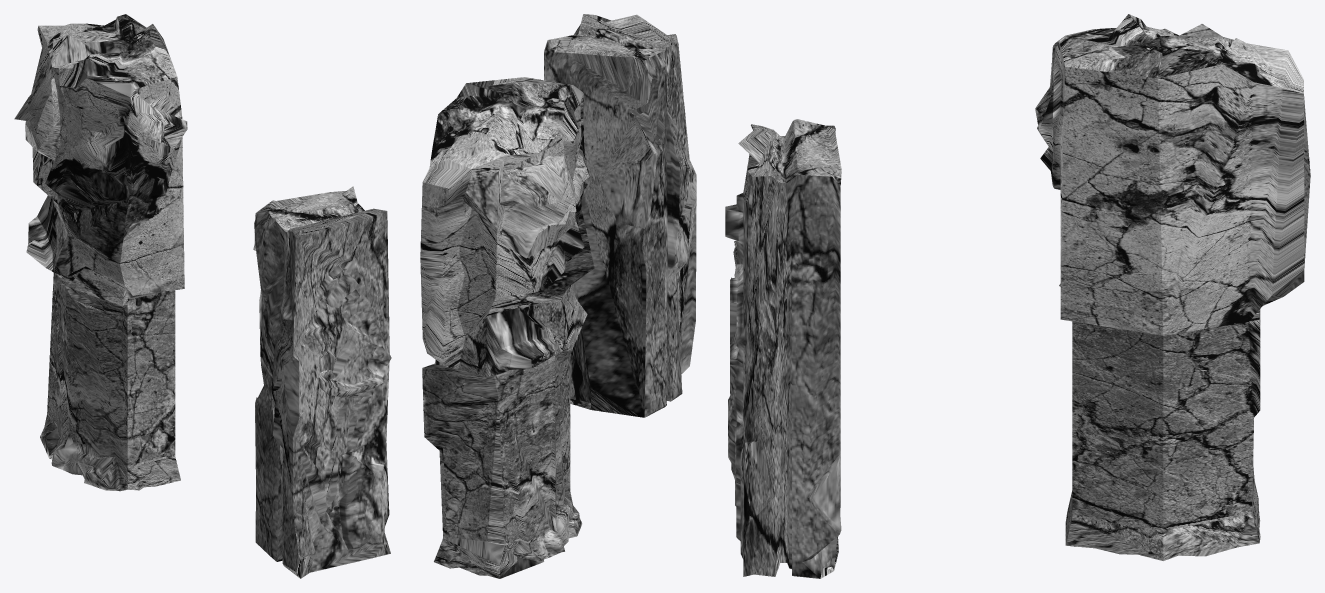
File: status.fbx
The picture shows the model from 3 angles, left to right: view 1: azimuth 30°, elevation 25°; view 2: azimuth 150°, elevation 25°; view 3: azimuth 270°, elevation 25°; orthographic projection. The views are drawn at different scales.
Parts seen in each view (by area): view 1: pCylinder1, pCube1; view 2: pCylinder1, pCube1; view 3: pCylinder1, pCube1.
Boxes of the visible parts, x1,y1,x2,y2 form: pCylinder1: (14, 14, 187, 491); pCube1: (253, 186, 391, 578); pCylinder1: (420, 77, 594, 578); pCube1: (544, 14, 696, 417); pCylinder1: (1035, 14, 1310, 560); pCube1: (725, 119, 841, 578).
Size of the model in its own units: 4.17 by 9.42 by 9.97.
1 material, 1 textured.
